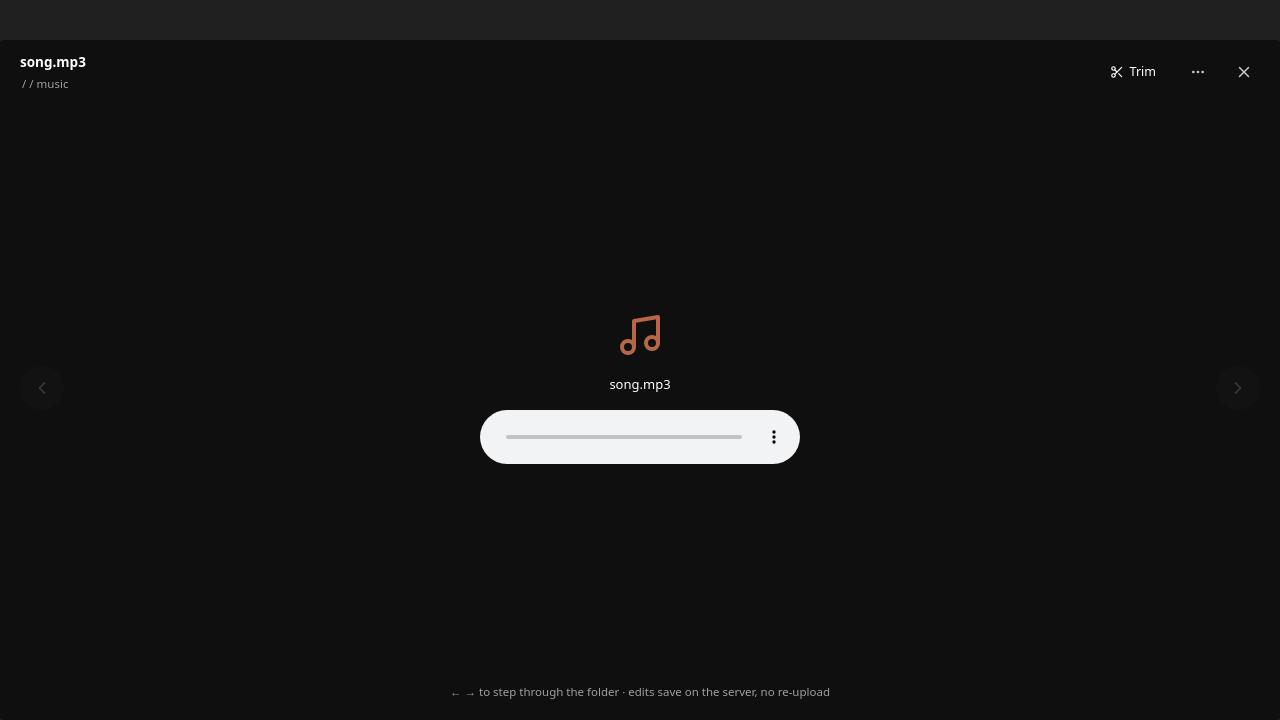
Test: QuickLookOverlay audio trim › opens the timeline under the audio player with the full duration selected
Click the button with aria-label "Trim audio": (1133, 72) 1098,56 -> 1168,88
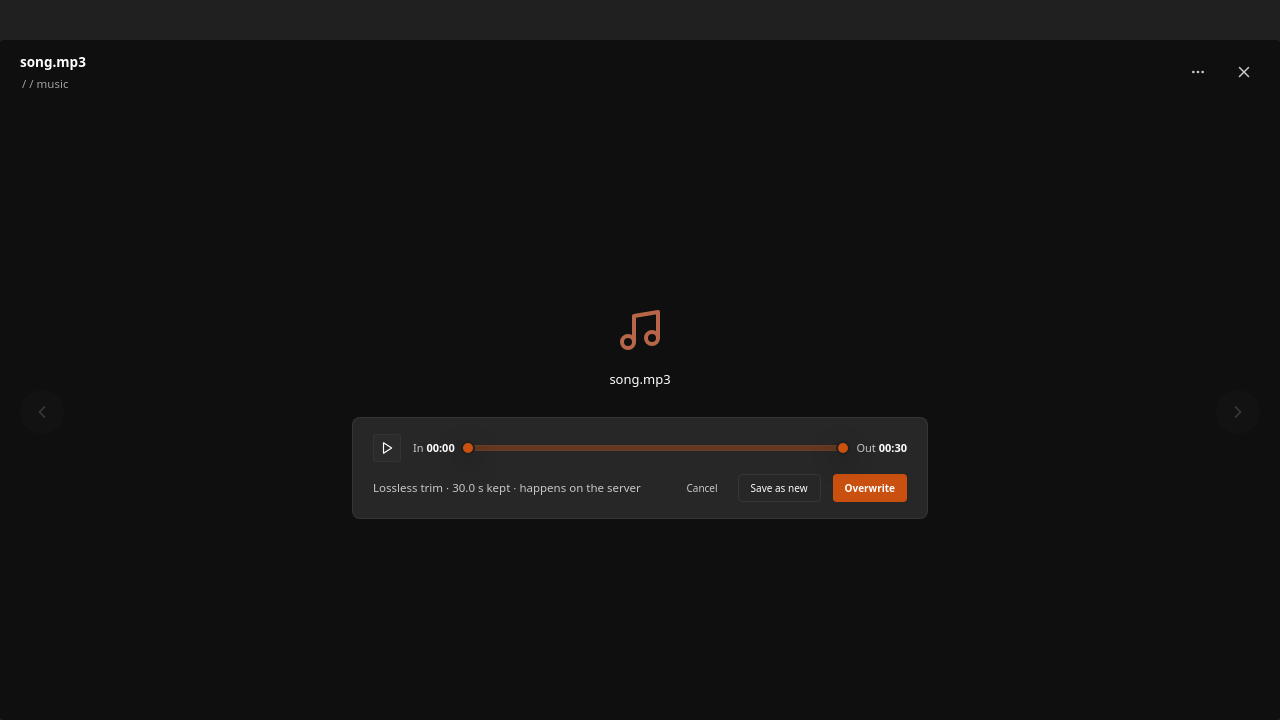
expect the text with test id "trim-in" reads "00:00": met, box 426,440 -> 455,455
expect the text with test id "trim-out" reads "00:30": met, box 879,440 -> 907,455
